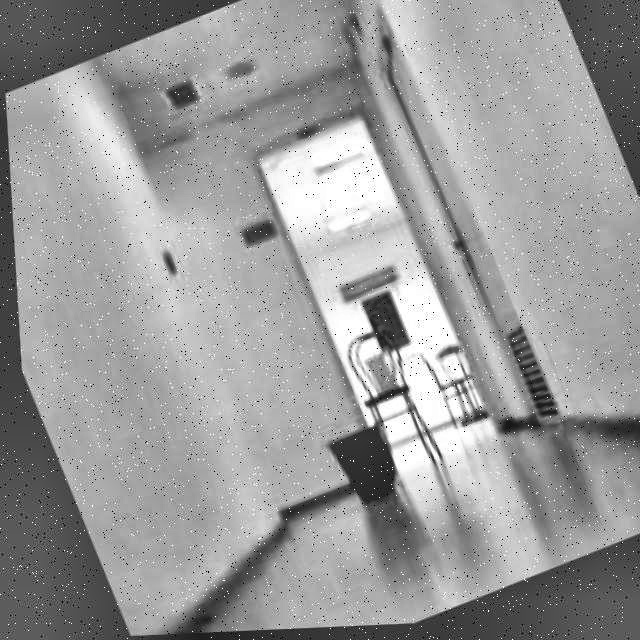Fire: (348, 407, 374, 432)
